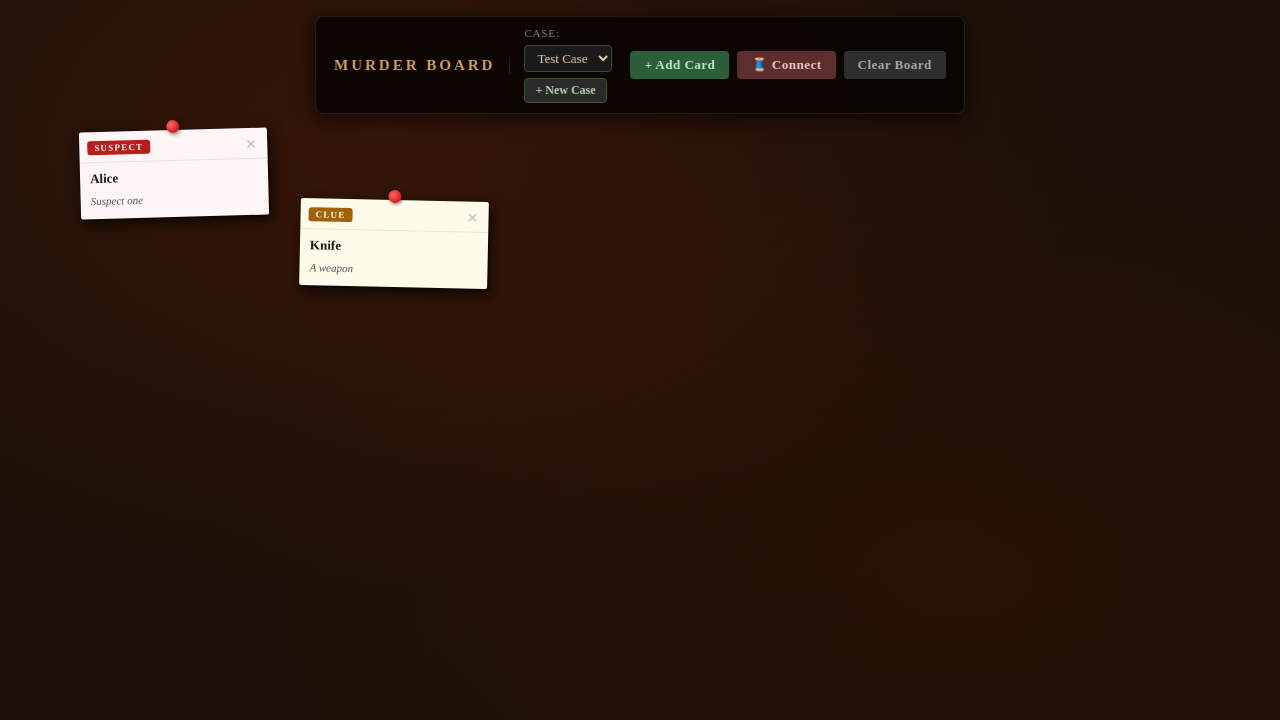
Test: Board › adds a card via the modal
The width and height of the screenshot is (1280, 720).
Click the button "+ Add Card": (680, 65) [630,51,729,79]
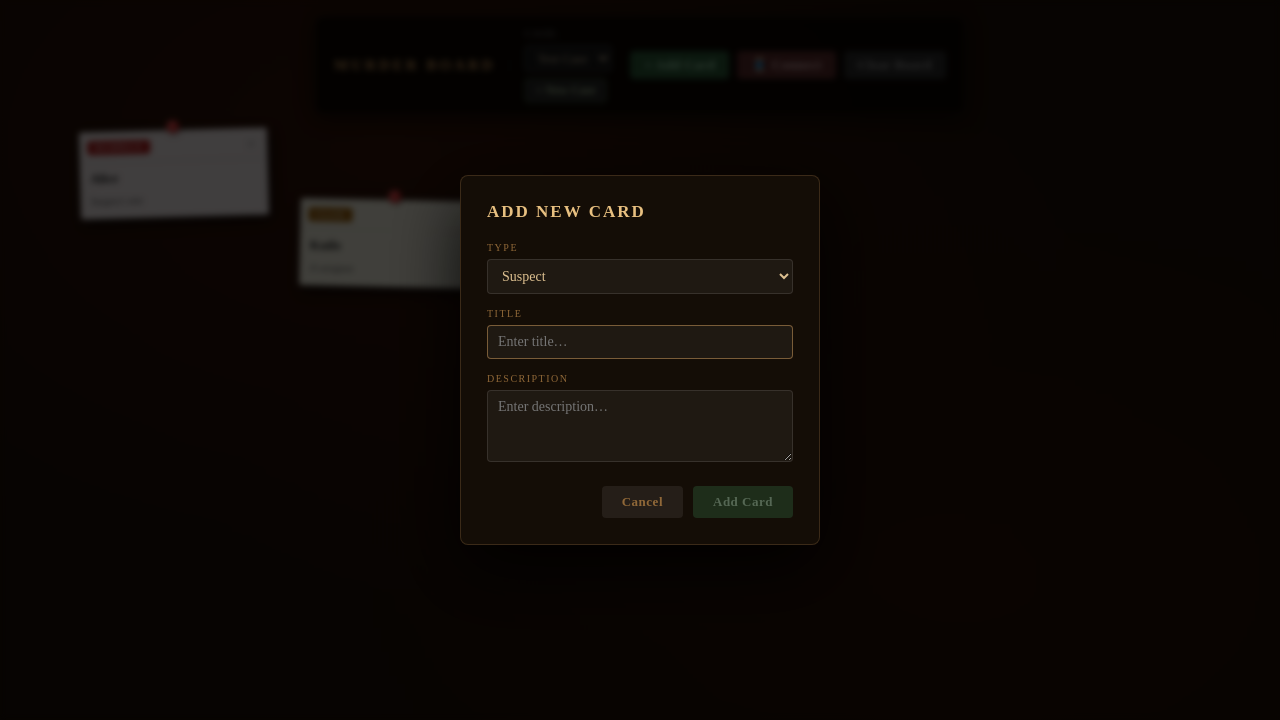
In the field with placeholder "Enter title…": (640, 342) [487,325,793,359], type "New Suspect"
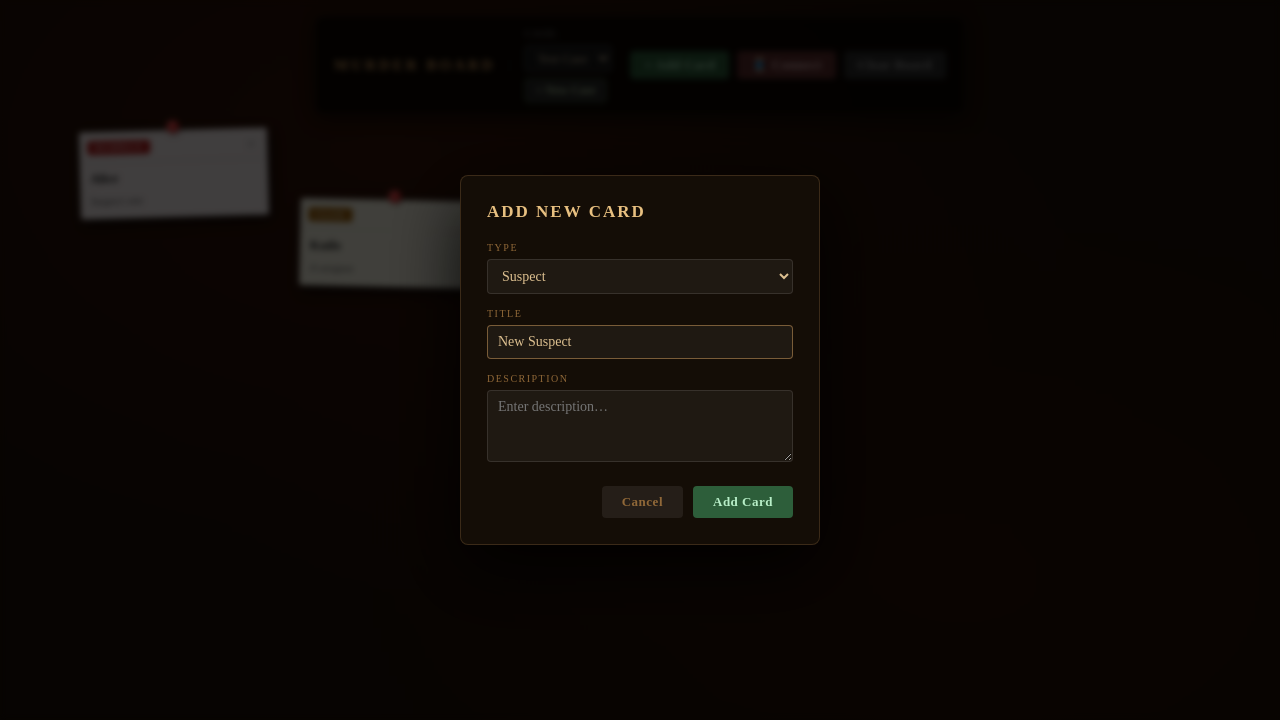
Click the button "Add Card": (743, 502) [693,486,793,518]
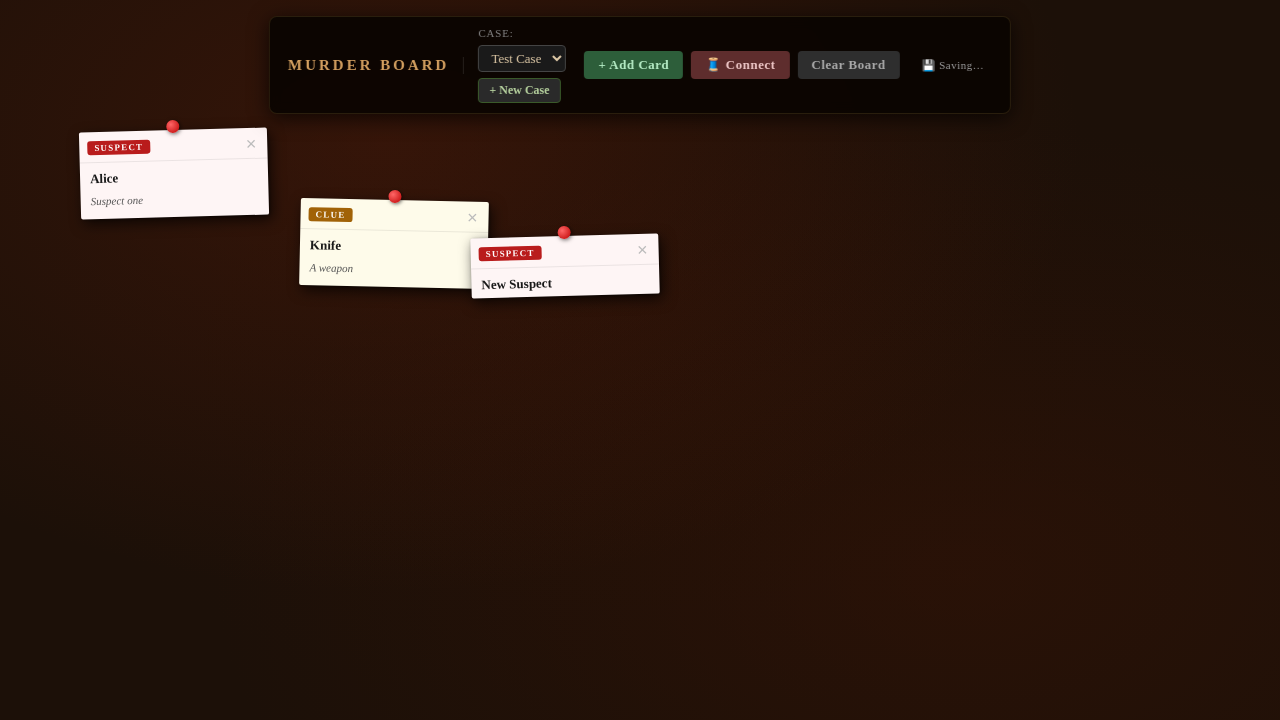
Check: the text "New Suspect" is shown, box [481,275,552,292]
